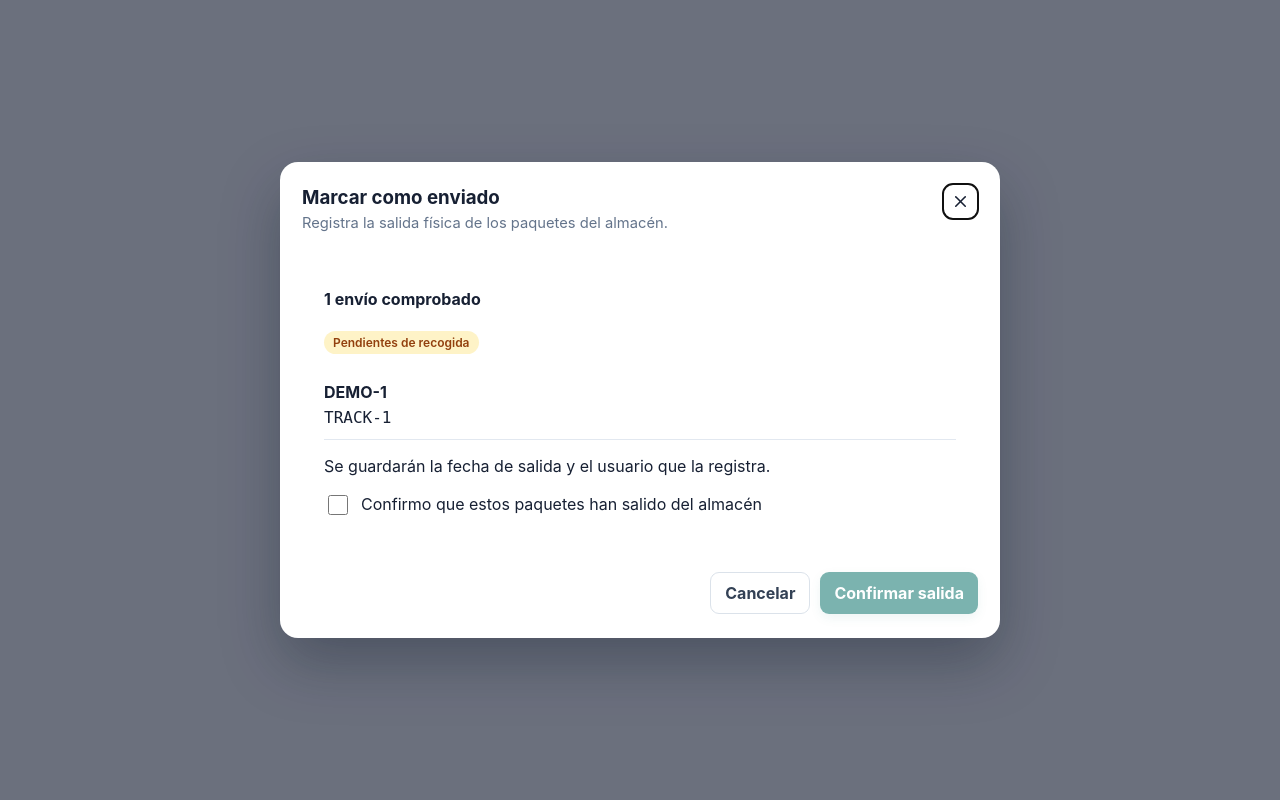
Test: keeps the reviewed selection and error visible when the server rejects a stale label
This screenshot has width=1280, height=800.
Click the checkbox labelled "Confirmo que estos paquetes han salido del almacén": {"x": 338, "y": 505} [328,495,348,515]
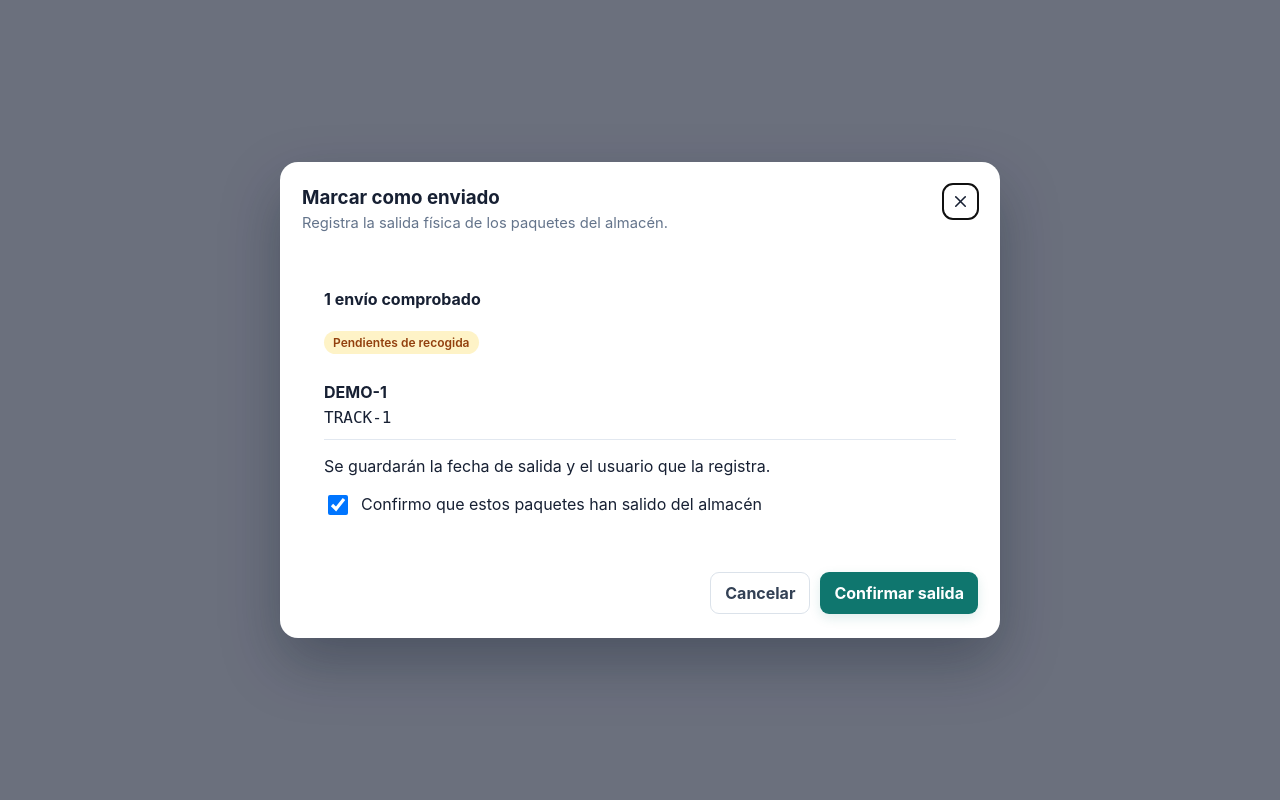
Click the button "Confirmar salida": {"x": 899, "y": 593} [820,572,978,614]
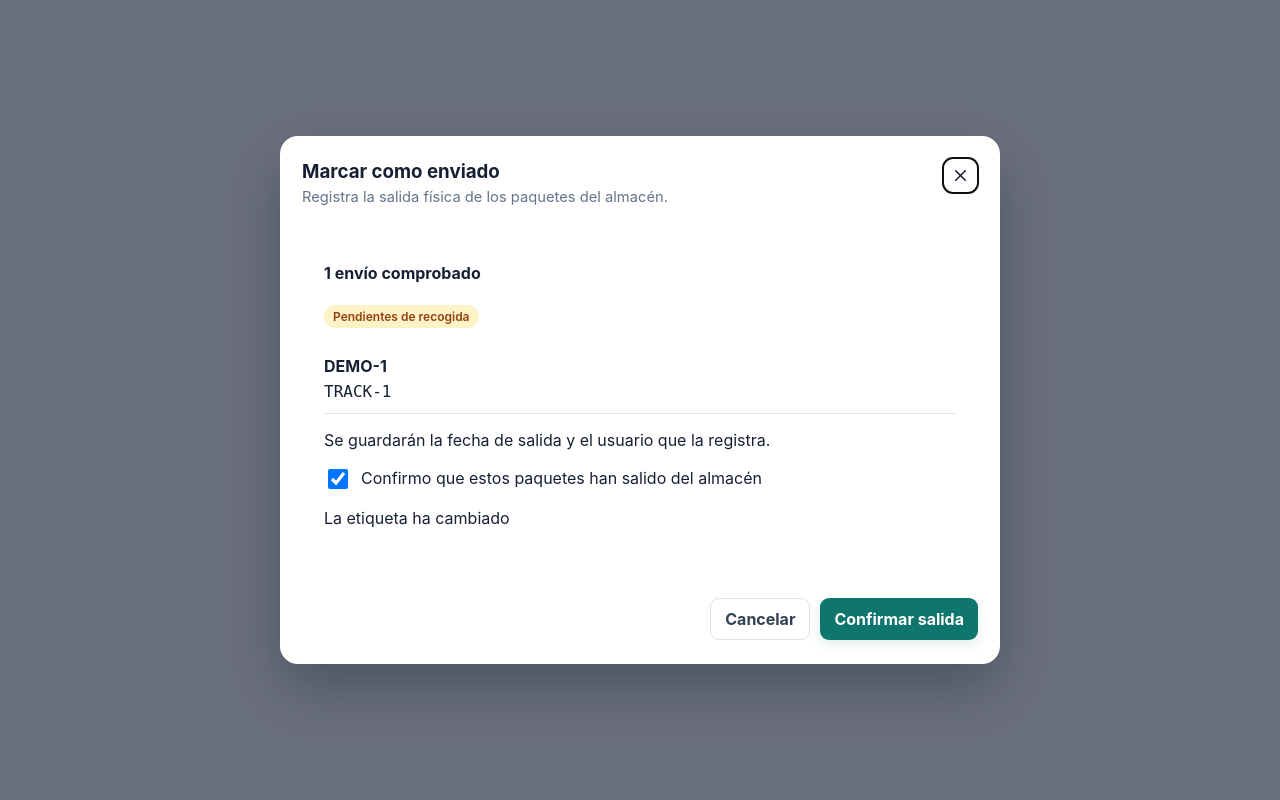
Expected: the text "TRACK-1" is shown, [324,382,391,401]
Now the message reads "La etiqueta ha cambiado", box [324,508,510,528]
